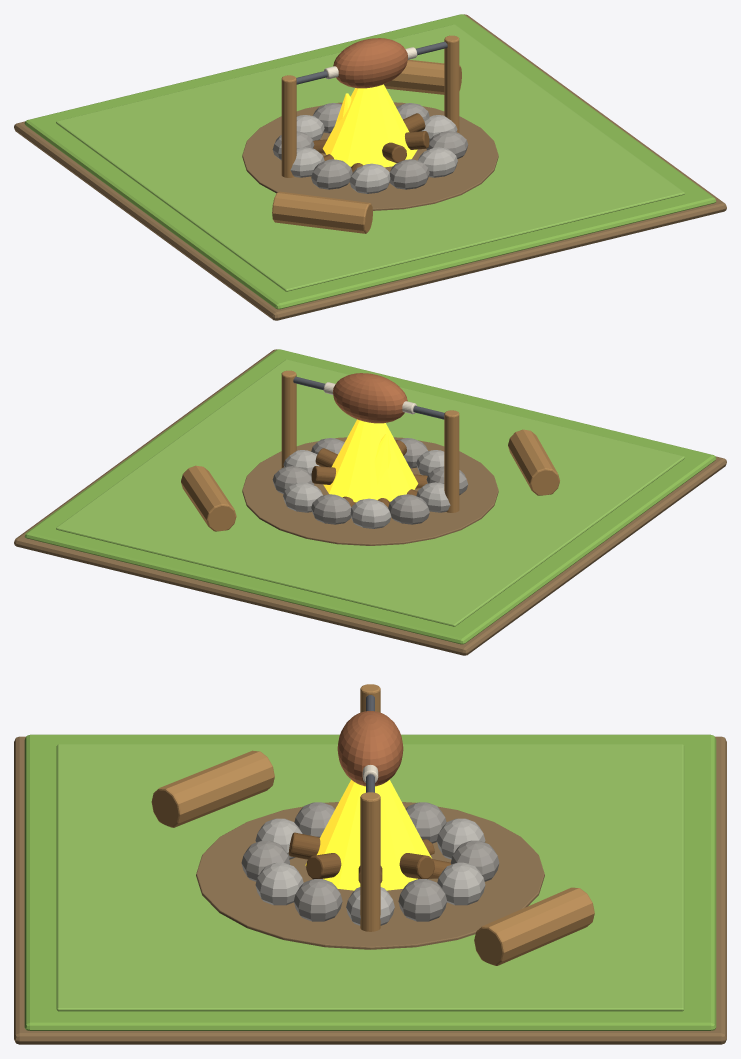
Rendered from army_camp_lv2.glb.
The picture shows the model from 3 angles, top to bottom: view 1: azimuth 30°, elevation 25°; view 2: azimuth 150°, elevation 25°; view 3: azimuth 270°, elevation 25°; orthographic projection. The views are drawn at different scales.
Parts seen in each view (by area): view 1: Base_Inner, Base_Grass, Base_Dirt, CampDirtPatch, FlameOuter, LogBench_3.90, RoastMeat, LogBench_0.80, SpitPost_-1, SpitPost_1, FireStone_7, FireStone_8 (+8 smaller); view 2: Base_Inner, Base_Grass, Base_Dirt, CampDirtPatch, FlameOuter, RoastMeat, LogBench_0.80, LogBench_3.90, SpitPost_-1, SpitPost_1, FireStone_5, FireStone_4 (+8 smaller); view 3: Base_Inner, Base_Grass, CampDirtPatch, Base_Dirt, FlameOuter, LogBench_3.90, LogBench_0.80, RoastMeat, SpitPost_1, FireStone_1, FireStone_11, FireStone_2 (+11 smaller).
Boxes of the visible parts, left/top/right/bottom form: Base_Inner: left=56, top=24, right=684, bottom=291; Base_Grass: left=24, top=14, right=716, bottom=309; Base_Dirt: left=14, top=14, right=726, bottom=320; CampDirtPatch: left=242, top=102, right=498, bottom=210; FlameOuter: left=322, top=84, right=417, bottom=167; LogBench_3.90: left=272, top=191, right=372, bottom=233; RoastMeat: left=333, top=38, right=407, bottom=88; LogBench_0.80: left=384, top=59, right=461, bottom=94; SpitPost_-1: left=281, top=75, right=296, bottom=177; SpitPost_1: left=444, top=35, right=459, bottom=132; FireStone_7: left=311, top=159, right=352, bottom=189; FireStone_8: left=349, top=163, right=390, bottom=193; Base_Inner: left=56, top=359, right=684, bottom=626; Base_Grass: left=24, top=349, right=716, bottom=644; Base_Dirt: left=14, top=349, right=726, bottom=655; CampDirtPatch: left=242, top=437, right=498, bottom=545; FlameOuter: left=323, top=419, right=418, bottom=502; RoastMeat: left=333, top=373, right=407, bottom=423; LogBench_0.80: left=181, top=465, right=236, bottom=531; LogBench_3.90: left=508, top=429, right=559, bottom=495; SpitPost_-1: left=444, top=410, right=459, bottom=512; SpitPost_1: left=281, top=370, right=296, bottom=467; FireStone_5: left=388, top=494, right=429, bottom=524; FireStone_4: left=350, top=498, right=391, bottom=528; Base_Inner: left=56, top=744, right=684, bottom=1011; Base_Grass: left=24, top=734, right=716, bottom=1030; CampDirtPatch: left=196, top=802, right=544, bottom=949; Base_Dirt: left=14, top=736, right=726, bottom=1044; FlameOuter: left=305, top=779, right=431, bottom=890; LogBench_3.90: left=151, top=750, right=274, bottom=827; LogBench_0.80: left=474, top=887, right=594, bottom=965; RoastMeat: left=337, top=711, right=403, bottom=786; SpitPost_1: left=360, top=792, right=380, bottom=931; FireStone_1: left=398, top=879, right=447, bottom=921; FireStone_11: left=293, top=879, right=342, bottom=921; FireStone_2: left=437, top=862, right=485, bottom=905.
Bounding box in the file's own units: 3.68 × 1.01 × 3.68.
